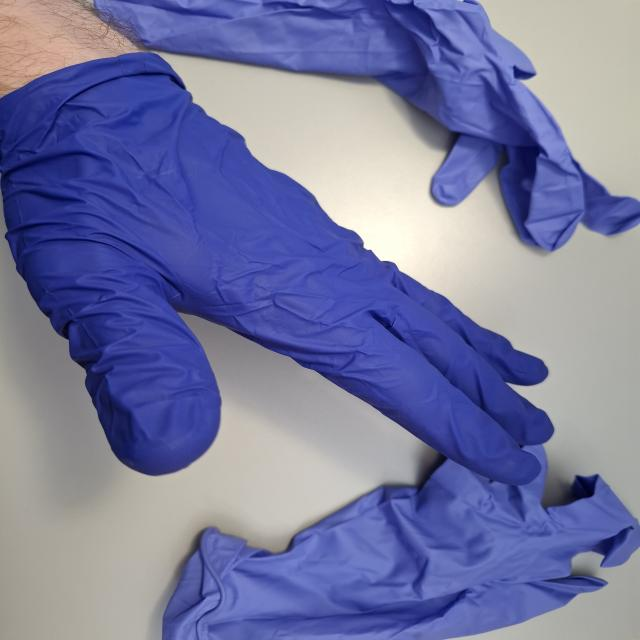glove_on: (0, 52, 556, 490)
